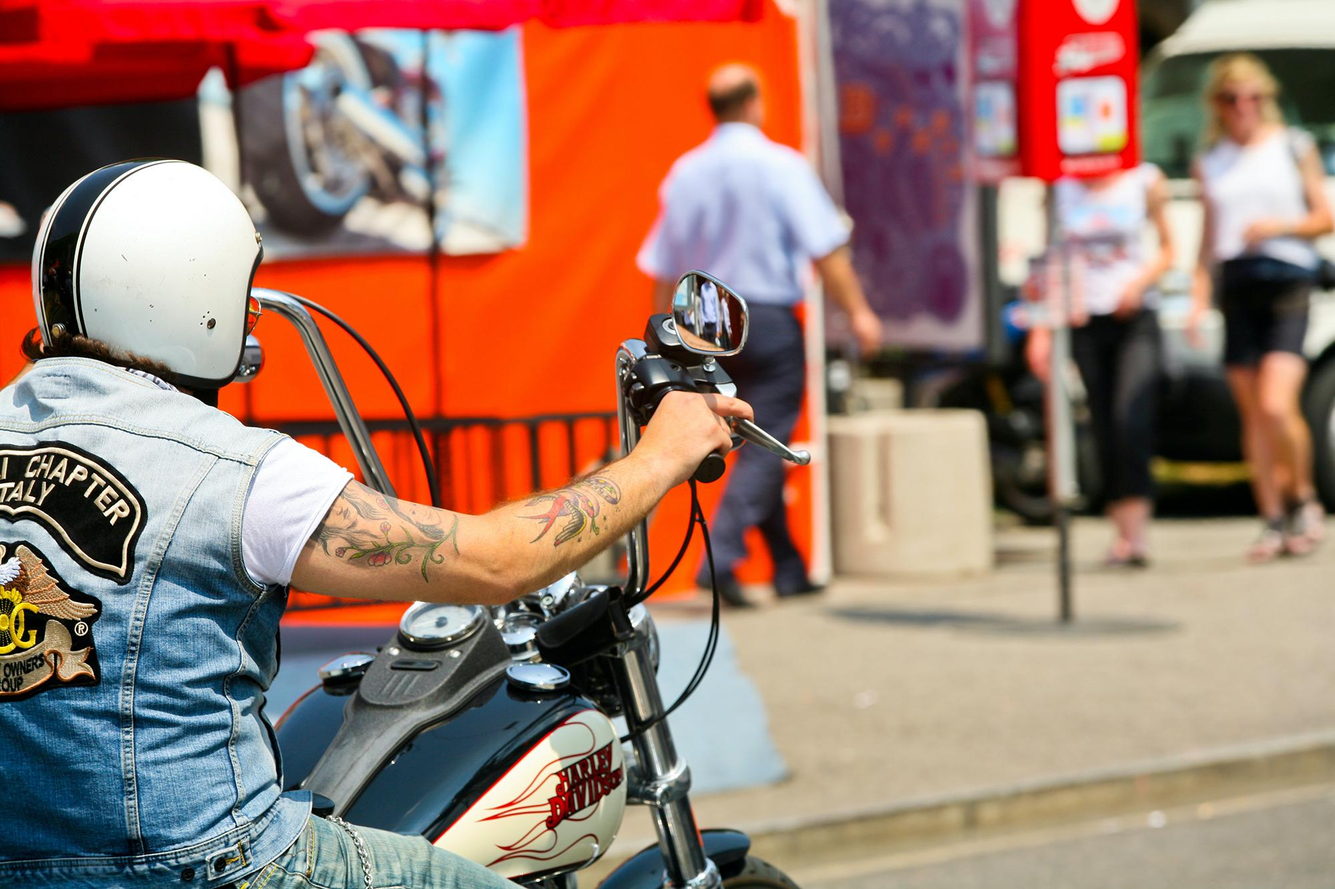helmet: (29, 154, 266, 403)
